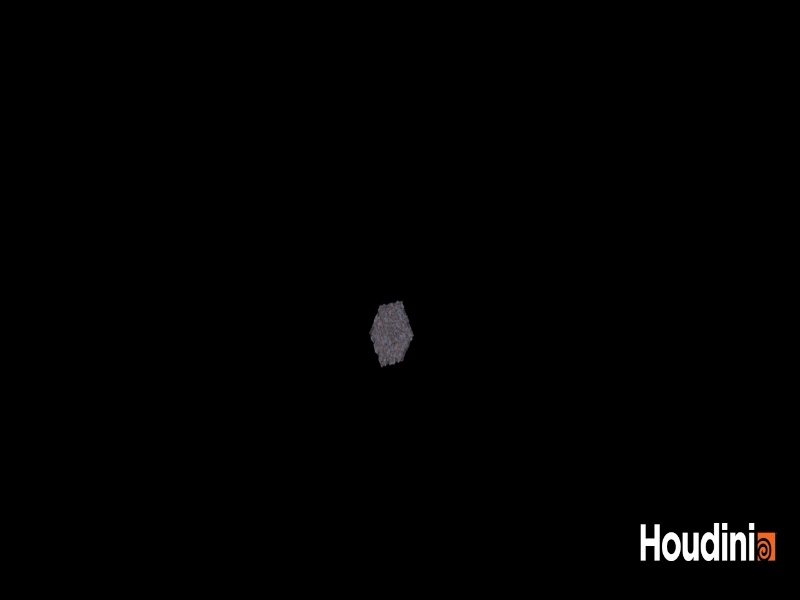waste: (363, 294, 425, 379)
